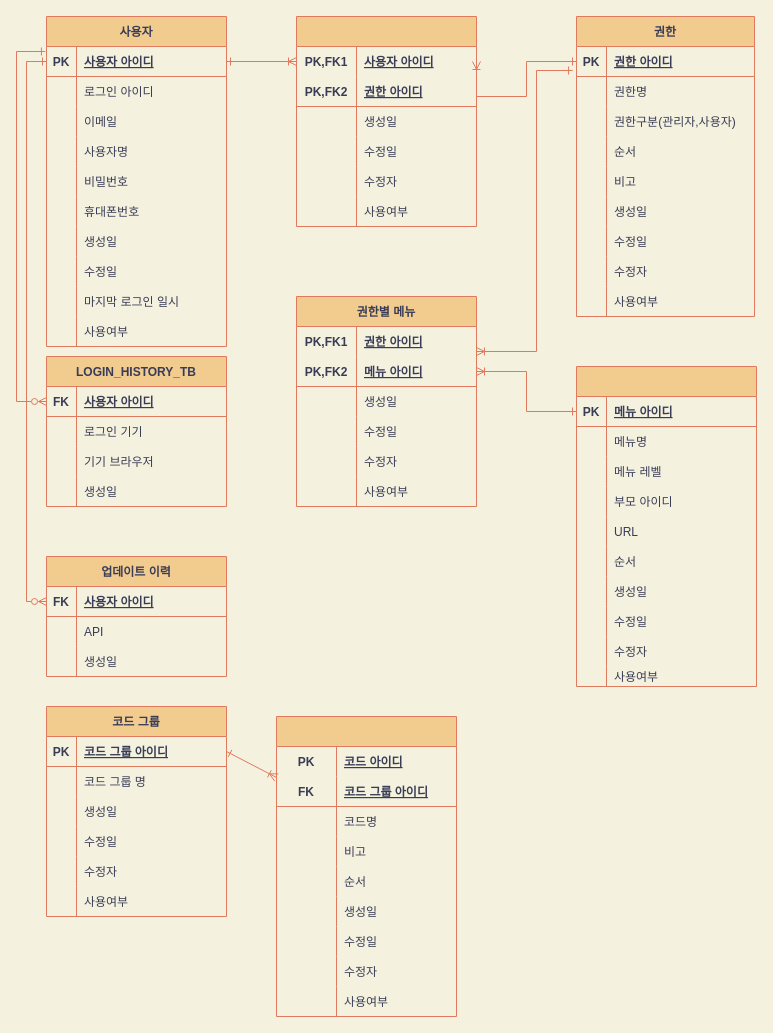
Image size: 773x1033. Some labels were removed from this diagram. Here are the shapes that lost their labels. From the top down, the box of each, then its label:
(296, 16, 476, 226): 사용자 권한
(576, 366, 756, 686): 메뉴
(276, 716, 456, 1016): 코드
